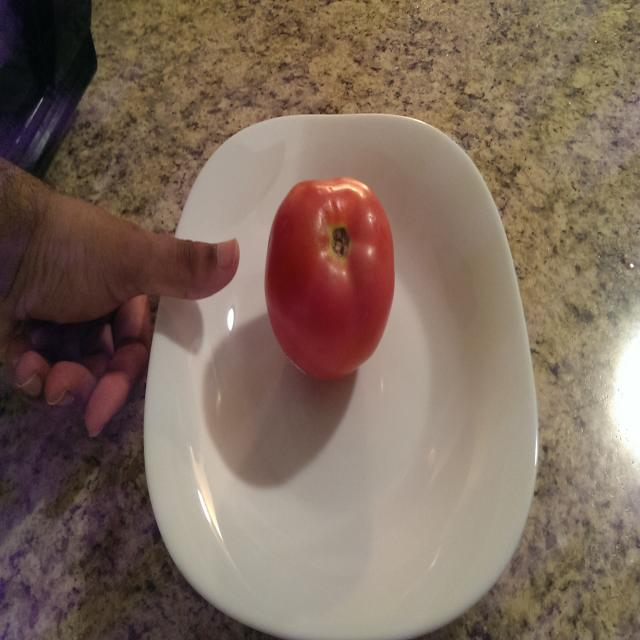tomato: (264, 176, 395, 380)
